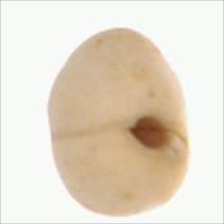L3: (125, 111, 182, 152)
L4: (47, 28, 190, 217)
